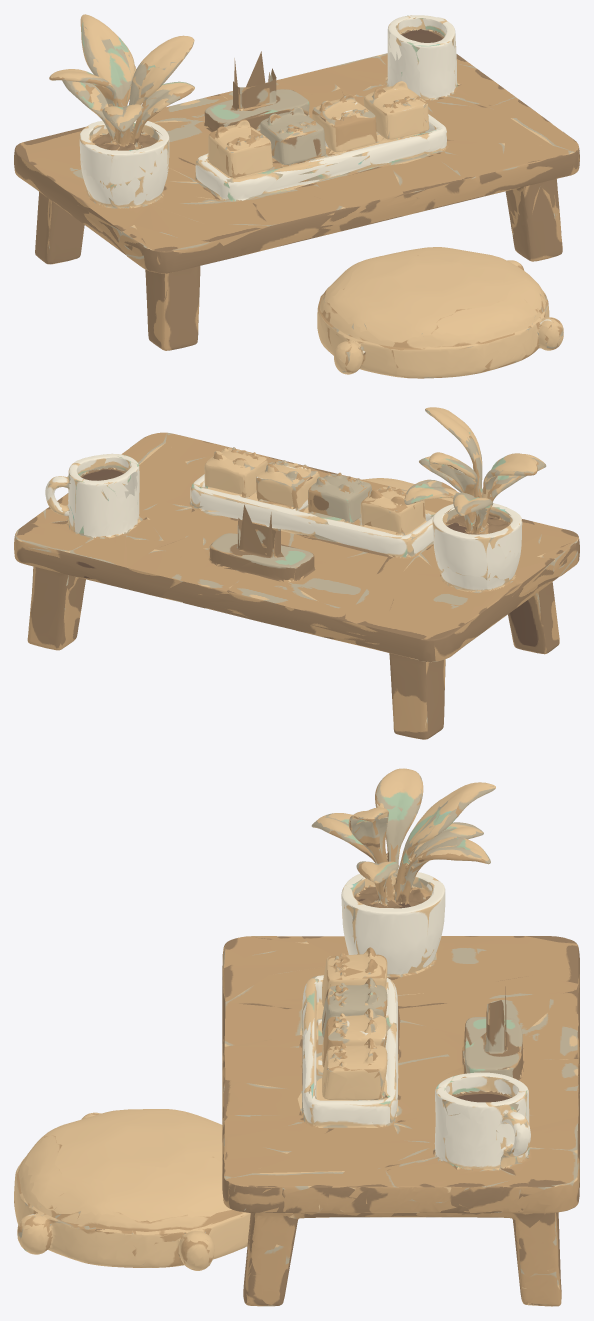
File: low-monitor-workstation-base-without-monitor-v1.glb
3 views of the same model, one above another, from view 1: azimuth 30°, elevation 25°; view 2: azimuth 150°, elevation 25°; view 3: azimuth 270°, elevation 25° (orthographic). The views are drawn at different scales.
Parts seen in each view (by area): view 1: low-monitor-cat-keycap-workstation-noise-clean-v3; view 2: low-monitor-cat-keycap-workstation-noise-clean-v3; view 3: low-monitor-cat-keycap-workstation-noise-clean-v3.
Part boxes in pixels (box(x1,y1,x2,y2)): low-monitor-cat-keycap-workstation-noise-clean-v3: box(14, 14, 579, 378); low-monitor-cat-keycap-workstation-noise-clean-v3: box(14, 407, 579, 739); low-monitor-cat-keycap-workstation-noise-clean-v3: box(14, 768, 579, 1306).
Bounding box in the file's own units: 1.9 × 1.04 × 1.7.
1 material, 1 textured.
